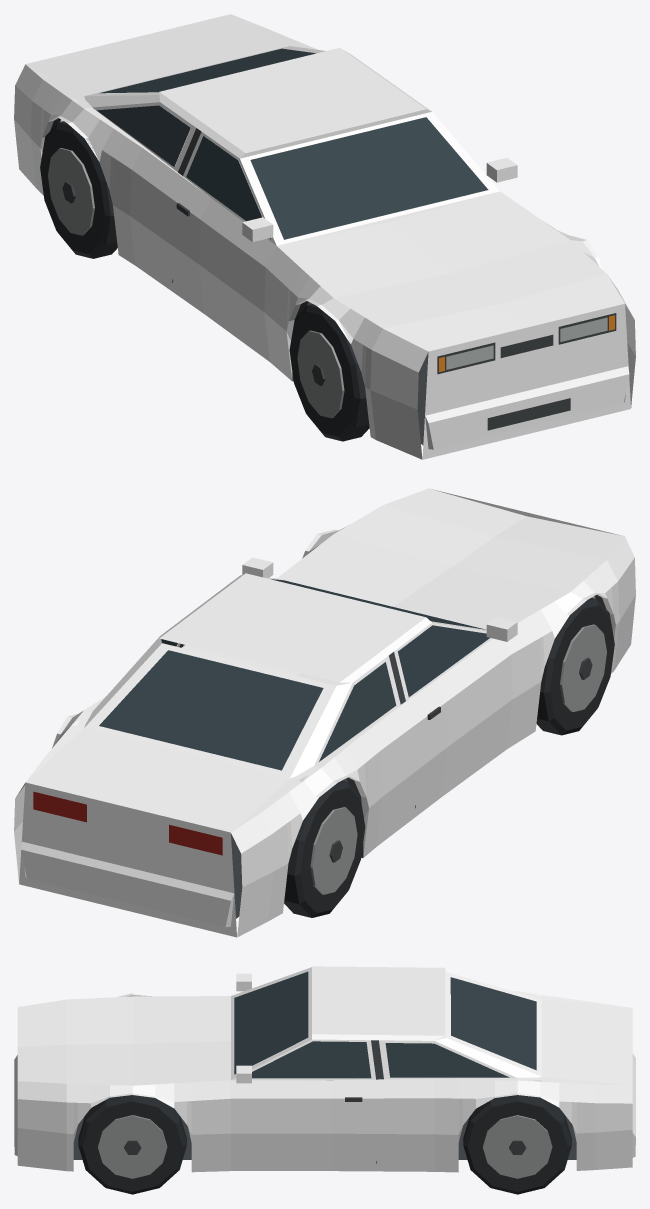
File: garrison_canyon.glb
3 views of the same model, one above another, from view 1: azimuth 30°, elevation 25°; view 2: azimuth 150°, elevation 25°; view 3: azimuth 270°, elevation 25° (orthographic). The views are drawn at different scales.
Visible parts, largest first — view 1: garrison_canyon; view 2: garrison_canyon; view 3: garrison_canyon.
Boxes of the visible parts, x1,y1,x2,y2 form: garrison_canyon: (14, 14, 635, 459); garrison_canyon: (14, 488, 635, 937); garrison_canyon: (14, 966, 635, 1194).
Bounding box in the file's own units: 1.82 × 1.22 × 4.7.
Materials: 8 (1 with a texture image).
